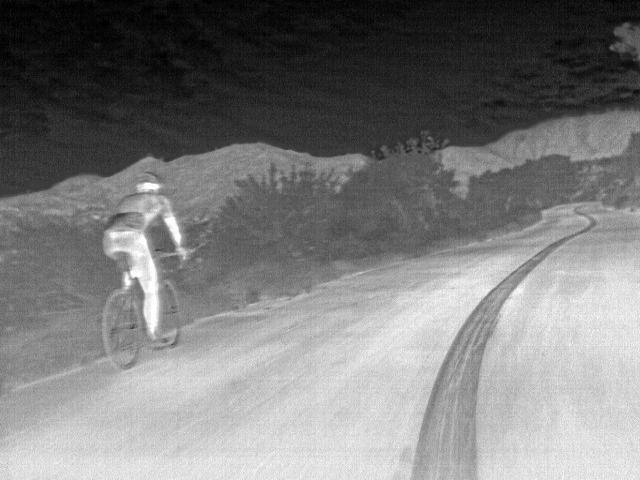person: (101, 169, 189, 331)
